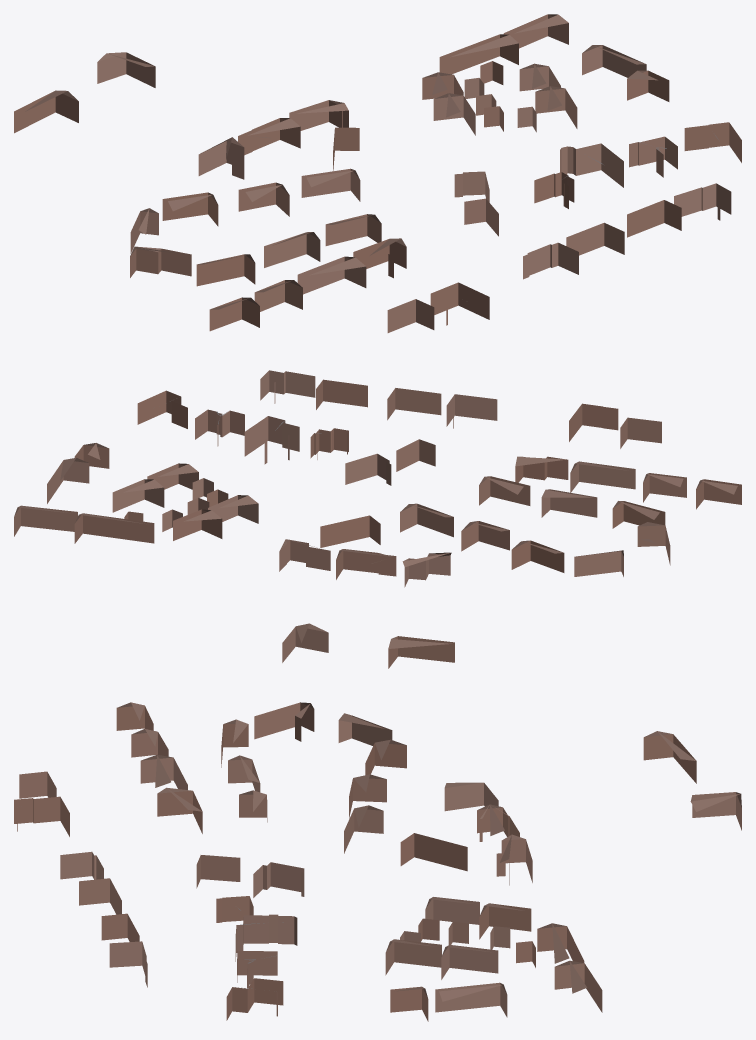
File: c_1646_17835_buildings_residential.glb
3 renders of one model, top to bottom at view 1: azimuth 30°, elevation 25°; view 2: azimuth 150°, elevation 25°; view 3: azimuth 270°, elevation 25°, orthographic. The views are drawn at different scales.
Visible parts, largest first — view 1: geometry_0; view 2: geometry_0; view 3: geometry_0.
Part boxes in pixels (x1,y1,x2,y2): geometry_0: (14, 14, 741, 332); geometry_0: (14, 370, 741, 668); geometry_0: (14, 702, 741, 1021).
Size of the model in its own units: 251 by 11.08 by 257.
